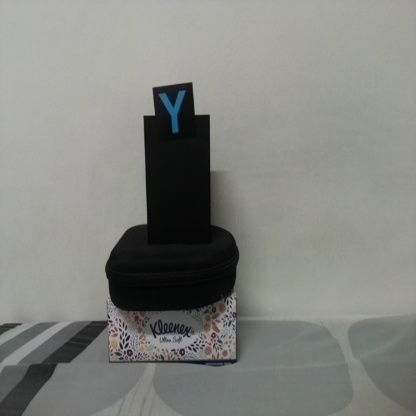id_14: (152, 86, 195, 142)
